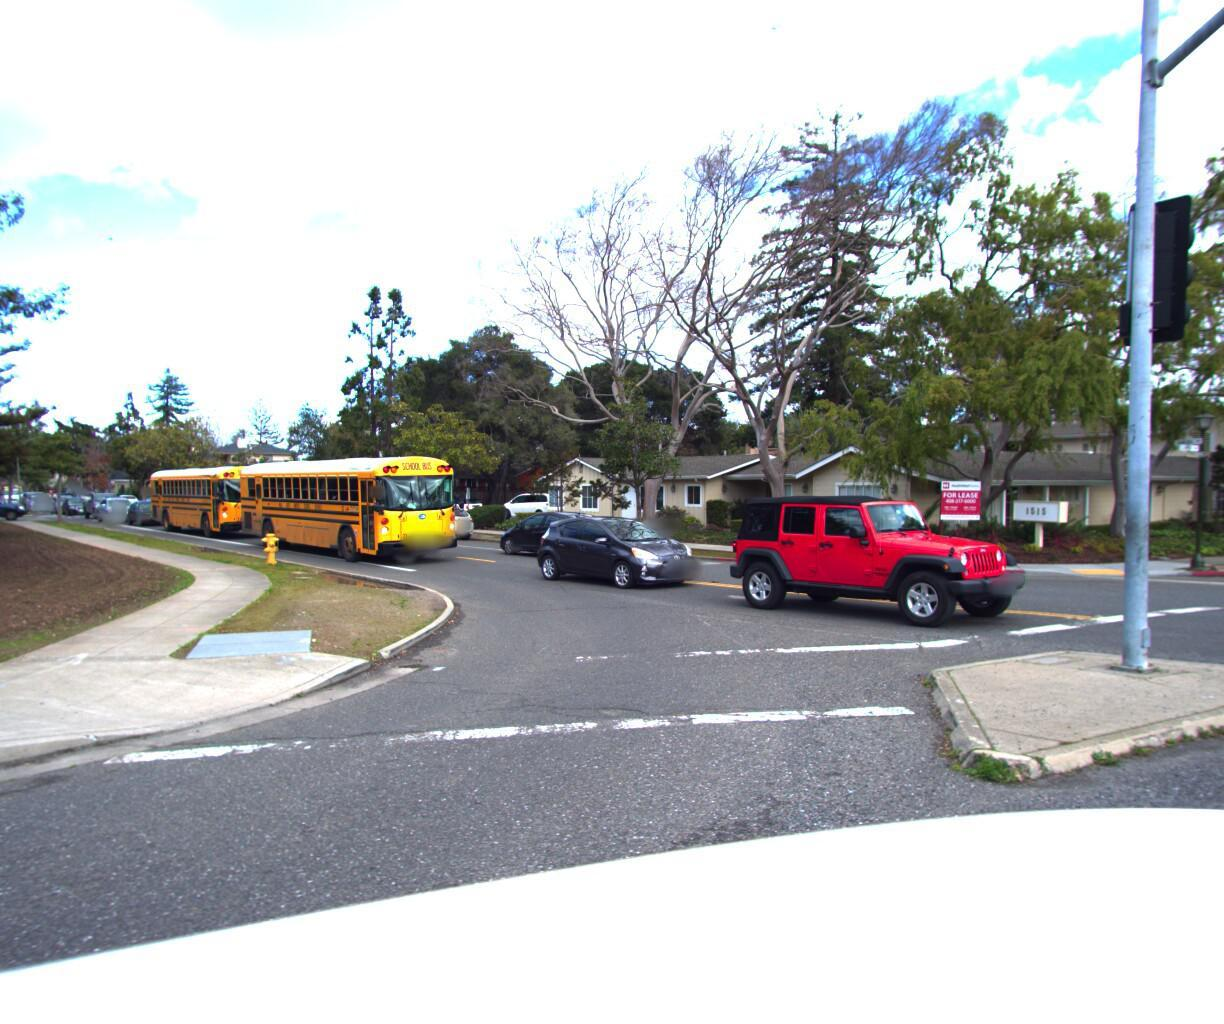bus: (232, 451, 478, 575), (143, 464, 290, 544)
car: (708, 491, 1053, 645), (527, 515, 710, 598), (491, 507, 630, 566), (395, 503, 481, 547), (497, 491, 571, 523), (94, 497, 148, 528), (78, 497, 135, 524), (128, 502, 181, 530), (429, 498, 489, 521), (0, 498, 36, 525), (23, 500, 55, 520)
